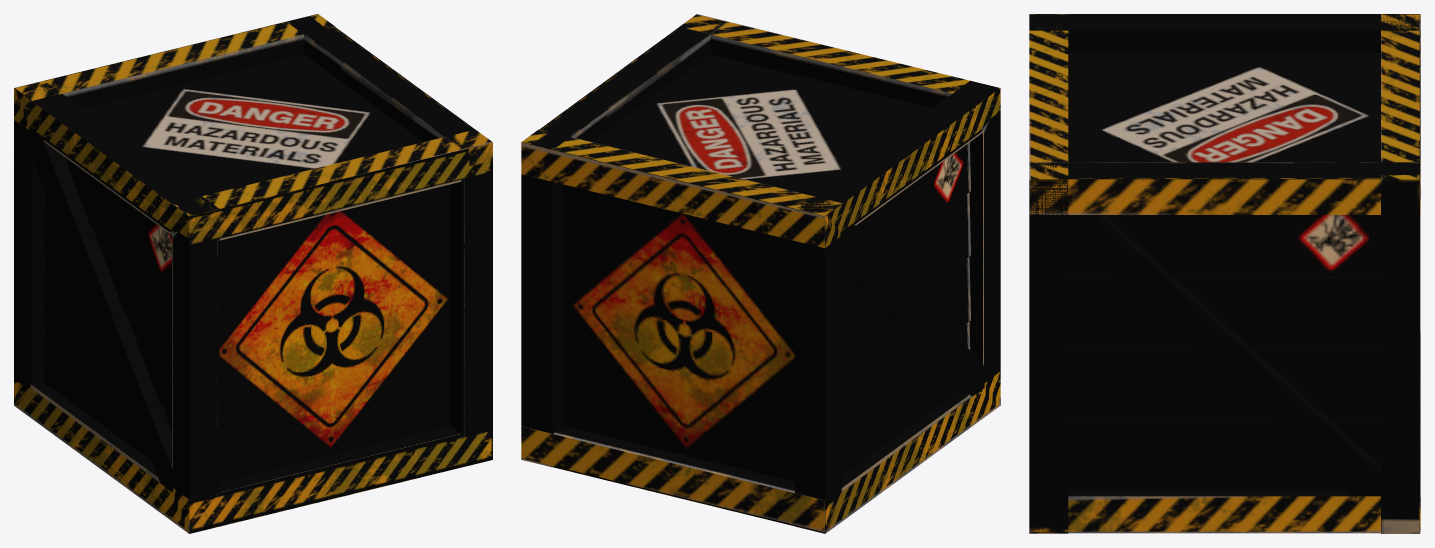
File: crate_Model_Broken_geo.fbx
3 views of the same model, side by side, from view 1: azimuth 30°, elevation 25°; view 2: azimuth 150°, elevation 25°; view 3: azimuth 270°, elevation 25° (orthographic). The views are drawn at different scales.
Parts seen in each view (by area): view 1: frontCrate2, frontCrate1, sideCrateL2, sideCrateL1, topCrate2, topCrate1, backCrate1, sideCrateR1, barL2, bottomeCrate2, barL3, sideCrateR2 (+2 smaller); view 2: backCrate1, sideCrateL1, sideCrateL2, backCrate2, topCrate1, topCrate2, bottomCrate1, sideCrateR2, frontCrate1, sideCrateR1, barL2, barL3 (+3 smaller); view 3: sideCrateR1, sideCrateR2, topCrate2, topCrate1, backCrate1, frontCrate1, frontCrate2, bottomeCrate2, barR2, sideCrateL1, backCrate2, sideCrateL2 (+3 smaller).
Part boxes in pixels (x1,y1,x2,y2): frontCrate2: [172, 237, 492, 533]; frontCrate1: [172, 129, 492, 387]; sideCrateL2: [65, 162, 219, 533]; sideCrateL1: [14, 80, 155, 442]; topCrate2: [148, 27, 474, 240]; topCrate1: [44, 14, 324, 217]; backCrate1: [15, 14, 335, 298]; sideCrateR1: [336, 52, 473, 437]; barL2: [54, 194, 144, 367]; bottomeCrate2: [42, 392, 461, 496]; barL3: [108, 351, 172, 491]; sideCrateR2: [287, 14, 368, 80]; backCrate1: [521, 129, 842, 401]; sideCrateL1: [795, 127, 937, 533]; sideCrateL2: [870, 80, 1000, 495]; backCrate2: [521, 341, 842, 526]; topCrate1: [521, 123, 959, 248]; topCrate2: [540, 27, 983, 156]; bottomCrate1: [521, 426, 852, 531]; sideCrateR2: [522, 104, 606, 467]; frontCrate1: [679, 14, 999, 249]; sideCrateR1: [575, 21, 727, 129]; barL2: [852, 250, 944, 340]; barL3: [907, 322, 984, 396]; sideCrateR1: [1029, 162, 1308, 533]; sideCrateR2: [1165, 162, 1420, 533]; topCrate2: [1029, 52, 1380, 214]; topCrate1: [1159, 14, 1420, 214]; backCrate1: [1381, 14, 1419, 403]; frontCrate1: [1029, 14, 1068, 284]; frontCrate2: [1029, 284, 1068, 533]; bottomeCrate2: [1029, 489, 1277, 531]; barR2: [1131, 271, 1311, 439]; sideCrateL1: [1168, 14, 1420, 52]; backCrate2: [1381, 401, 1419, 533]; sideCrateL2: [1029, 14, 1179, 52].
Size of the model in its own units: 1 by 1 by 1.
